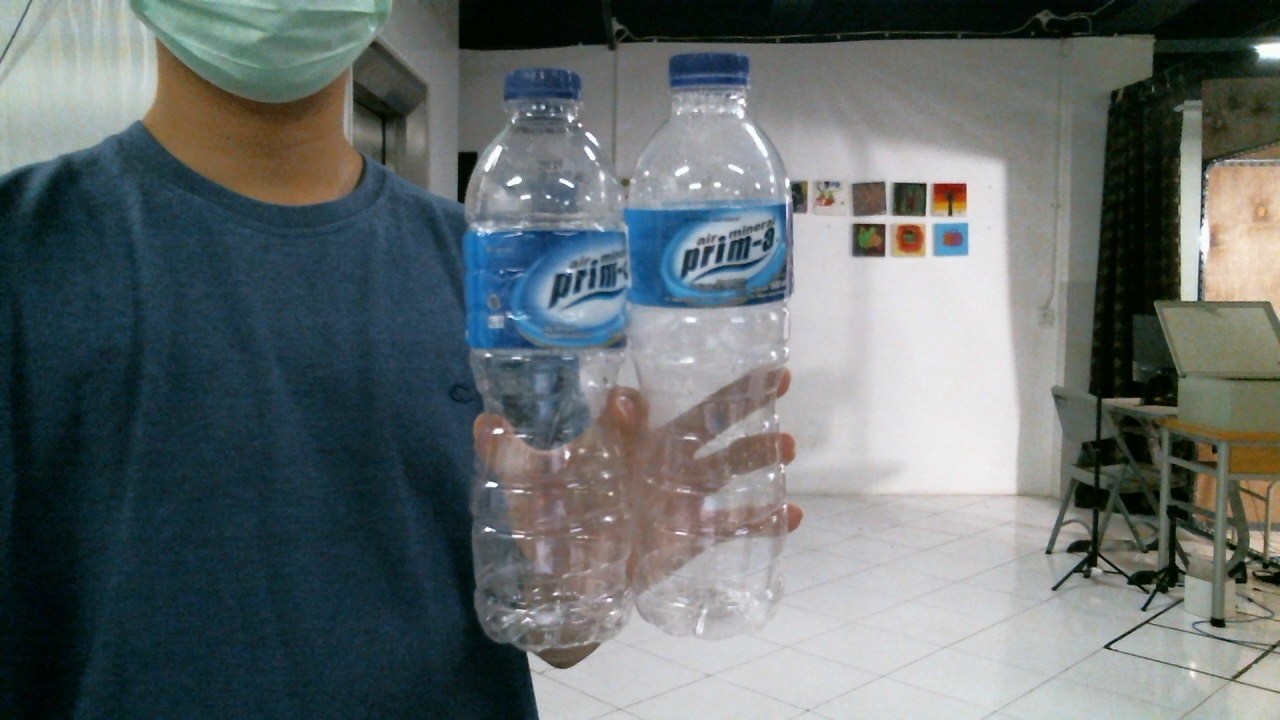Bottle: (621, 38, 786, 634), (460, 66, 628, 651)
